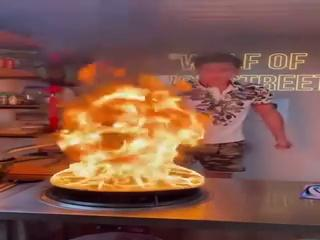Fire: (35, 58, 206, 194)
